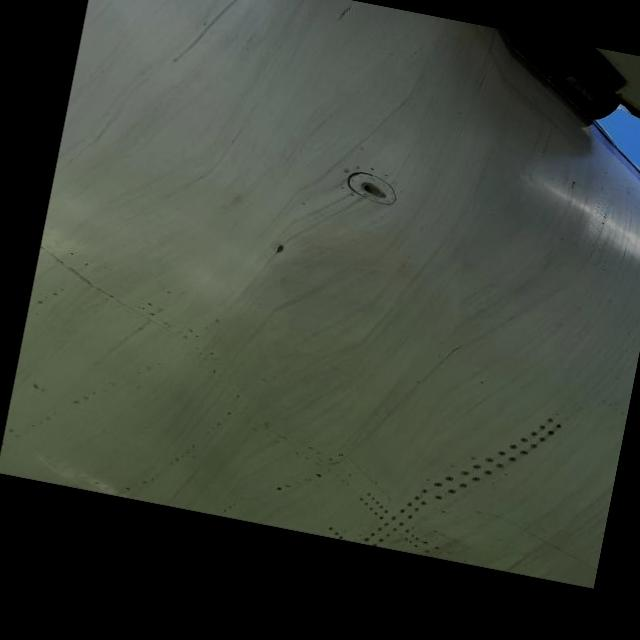crack: (432, 340, 470, 370), (268, 240, 295, 262)
